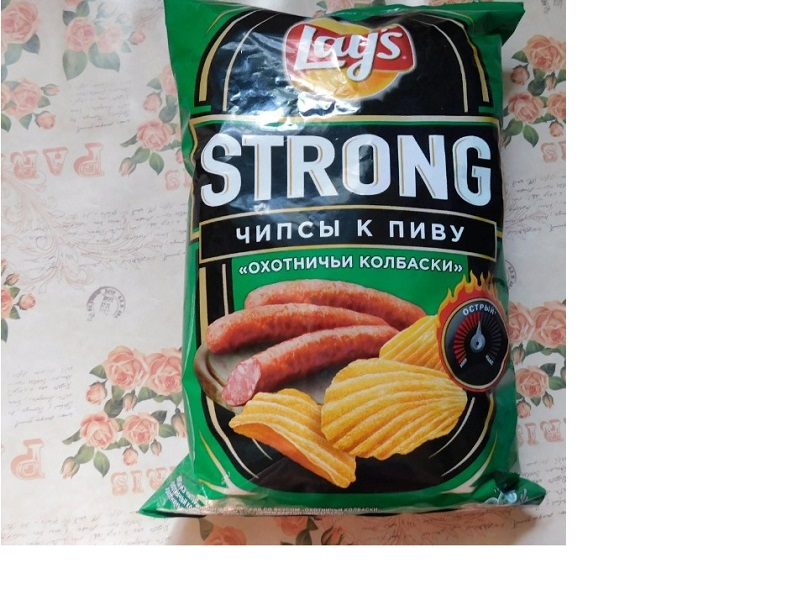chips: (123, 1, 564, 532)
